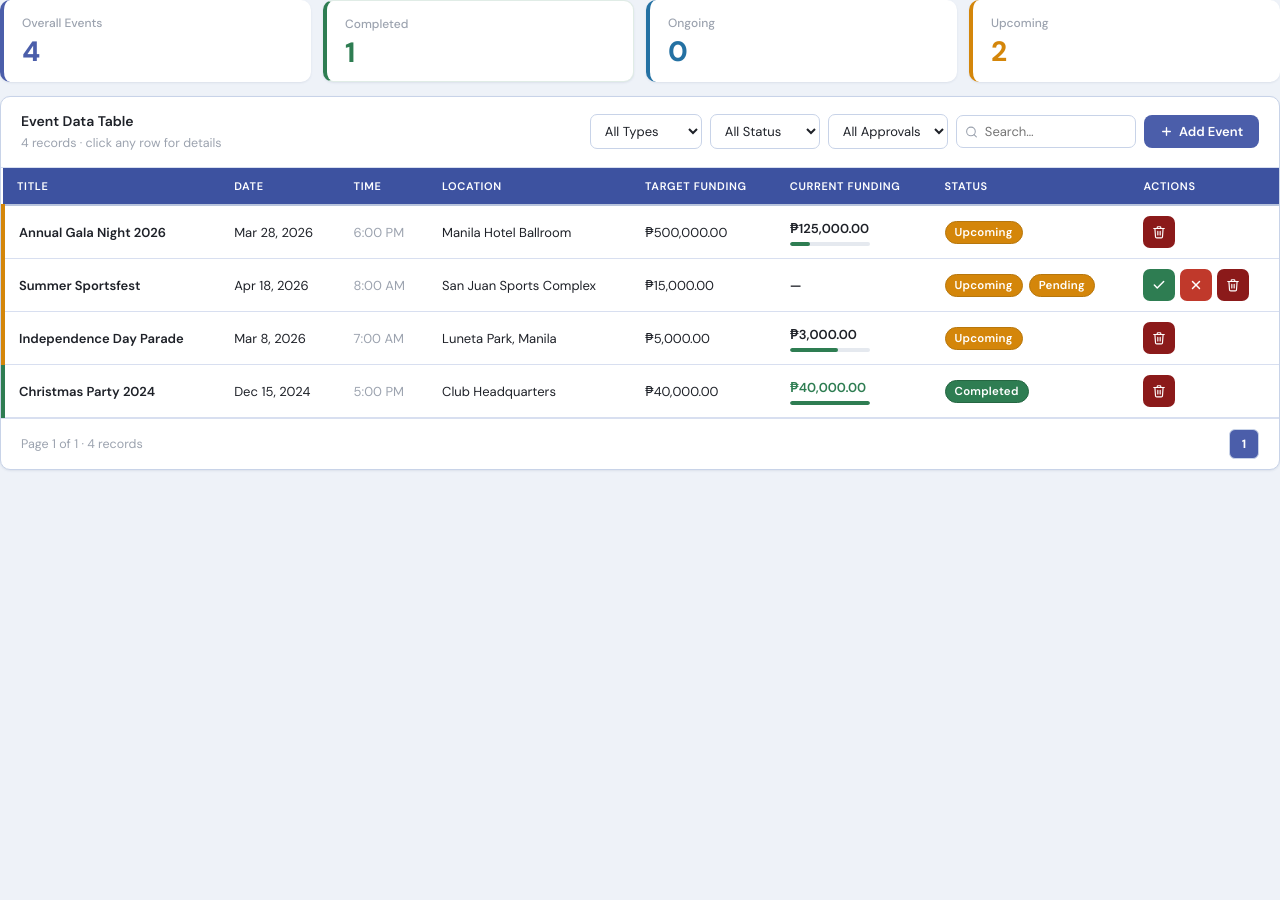
Test case: Events page › Approve / Reject appear only on the pending event; approving keeps it Upcoming
Expected: the text "Summer Sportsfest" shows "Pending", [1039,278,1085,293]
What coordinates should you click on to do the following:
click the button titled "Approve"
I would click on:
 (1160, 285)
Its box is [1144,269,1176,301].
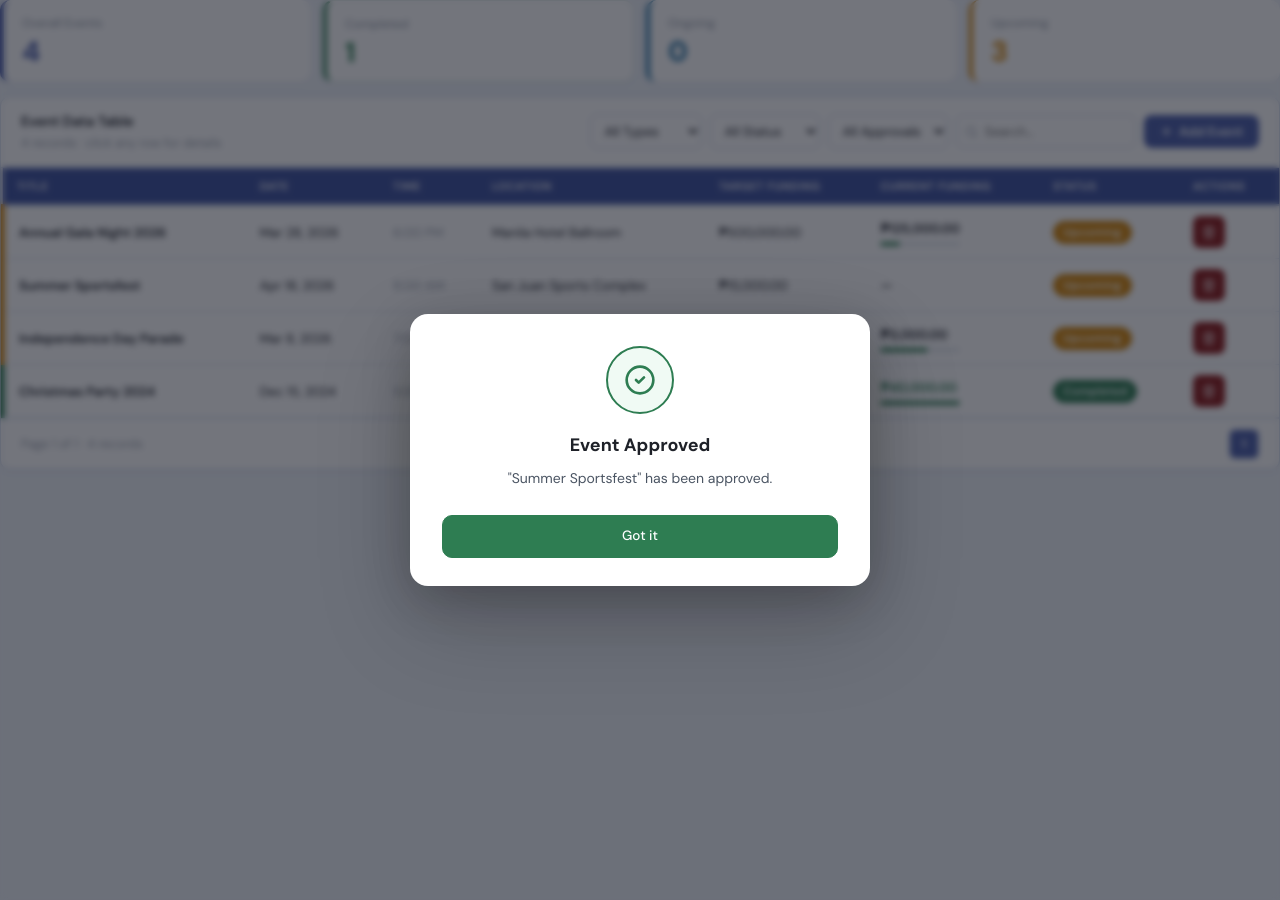
Expected: the text "Summer Sportsfest" shows "Upcoming", [1063,278,1122,293]
Result: no buttons titled "Approve" are shown
Result: the text "Summer Sportsfest" no longer shows "Pending"
